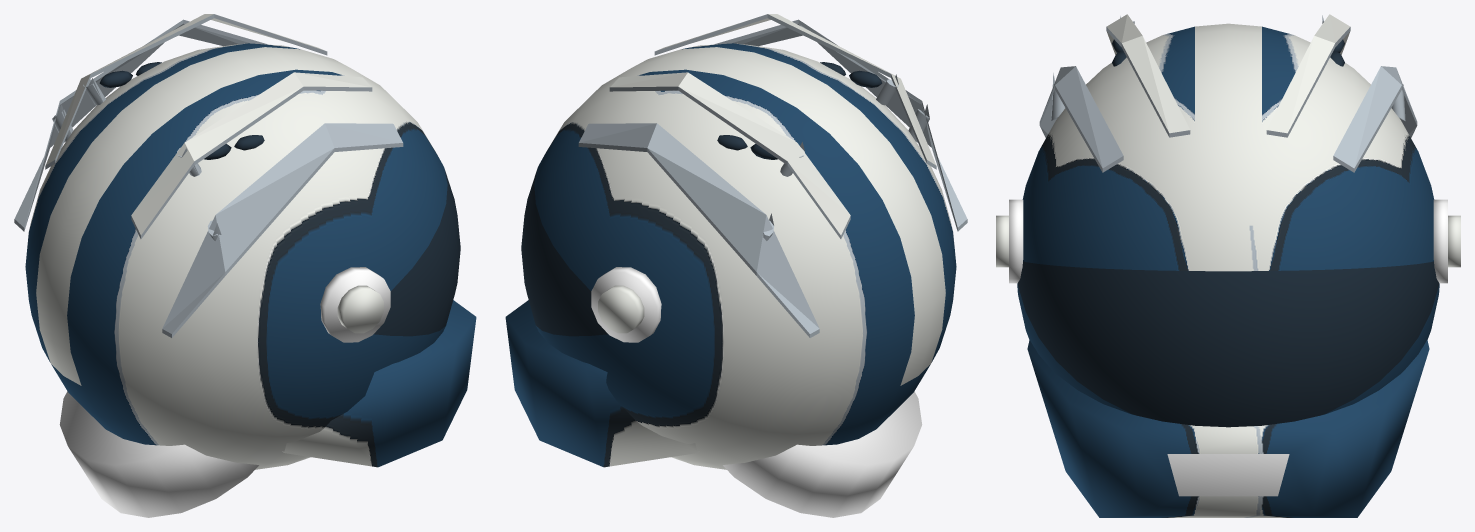
Rendered from Helmet_27_SSR_青鋼・白稜.glb.
3 views of the same model, side by side, from view 1: azimuth 30°, elevation 25°; view 2: azimuth 150°, elevation 25°; view 3: azimuth 270°, elevation 25° (orthographic). The views are drawn at different scales.
Parts seen in each view (by area): view 1: Helmet_27_SSR, Visor; view 2: Helmet_27_SSR, Visor; view 3: Helmet_27_SSR, Visor.
Part boxes in pixels (x1,y1,x2,y2): Helmet_27_SSR: (14, 14, 476, 517); Visor: (99, 62, 460, 336); Helmet_27_SSR: (505, 14, 967, 517); Visor: (521, 62, 882, 336); Helmet_27_SSR: (996, 14, 1460, 517); Visor: (1018, 39, 1438, 427).
Size of the model in its own units: 0.301 by 0.3164 by 0.289.
Materials: 4 (4 with a texture image).
